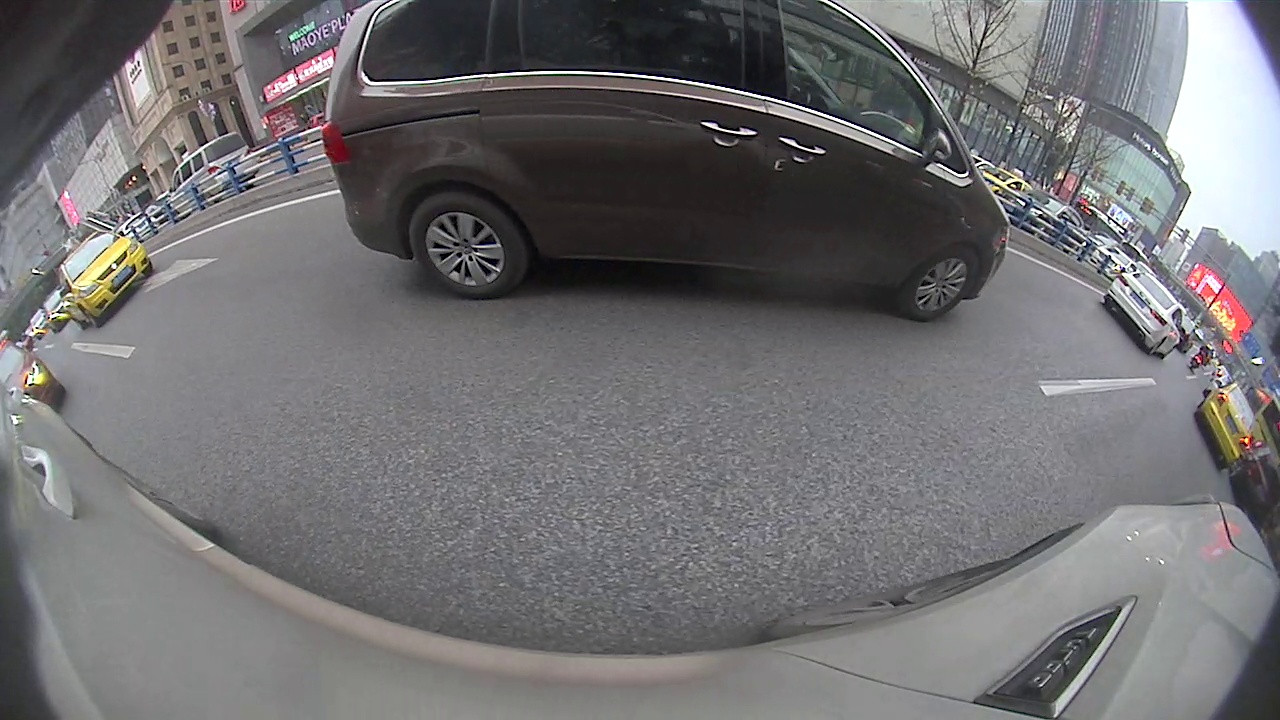car: (320, 1, 1013, 320), (54, 227, 154, 330), (165, 128, 261, 226), (1101, 267, 1187, 361), (1193, 381, 1260, 471)
front: (904, 244, 979, 322)
rear: (408, 191, 528, 300)
